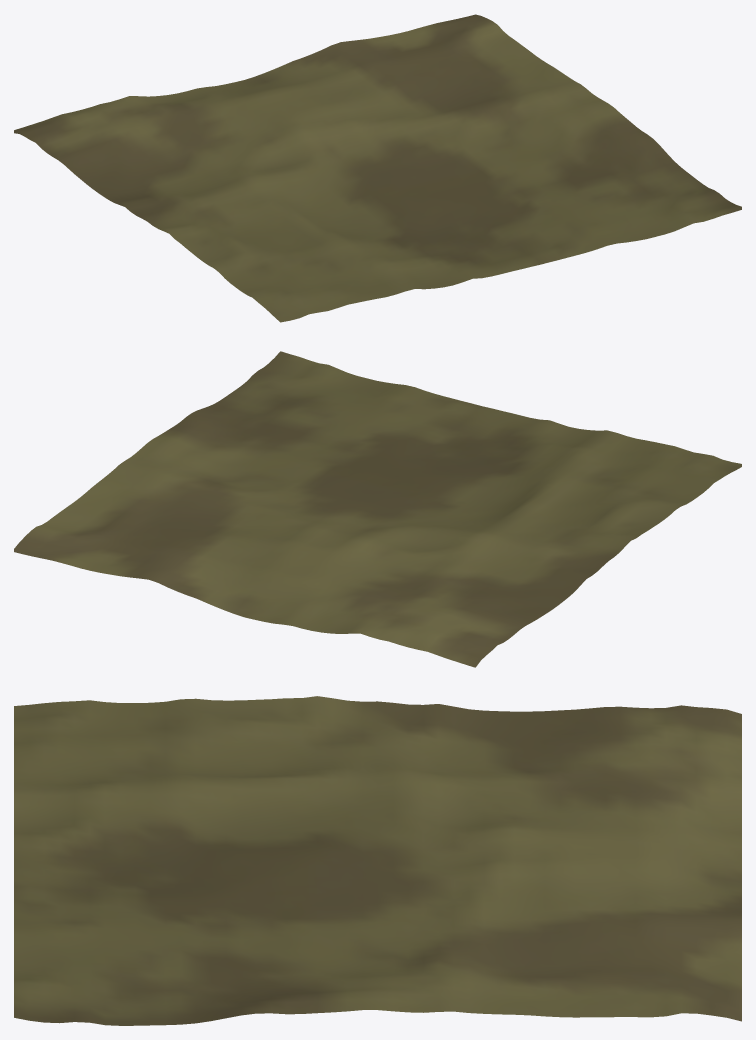
File: land_m_11_10.glb
3 views of the same model, one above another, from view 1: azimuth 30°, elevation 25°; view 2: azimuth 150°, elevation 25°; view 3: azimuth 270°, elevation 25° (orthographic). The views are drawn at different scales.
Visible parts, largest first — view 1: land_m_11_10; view 2: land_m_11_10; view 3: land_m_11_10.
Boxes of the visible parts, x1,y1,x2,y2 form: land_m_11_10: (14, 14, 741, 322); land_m_11_10: (14, 351, 741, 667); land_m_11_10: (14, 696, 741, 1025).
Size of the model in its own units: 960 by 44.89 by 960.
